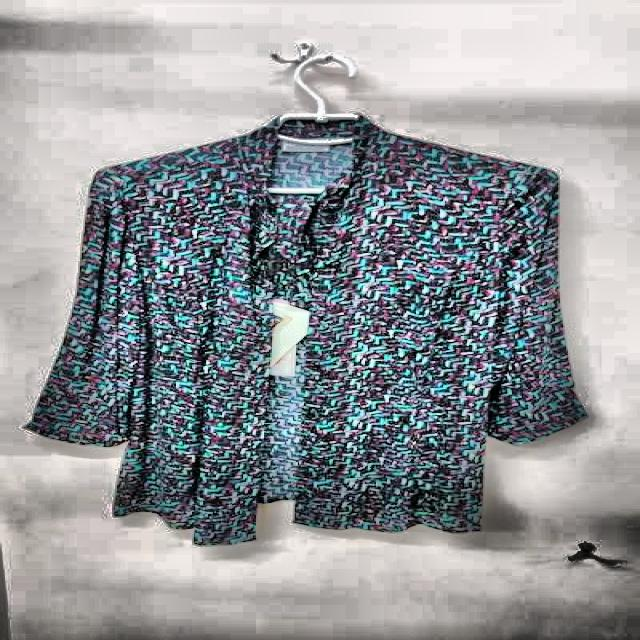clothes: (28, 114, 590, 550)
